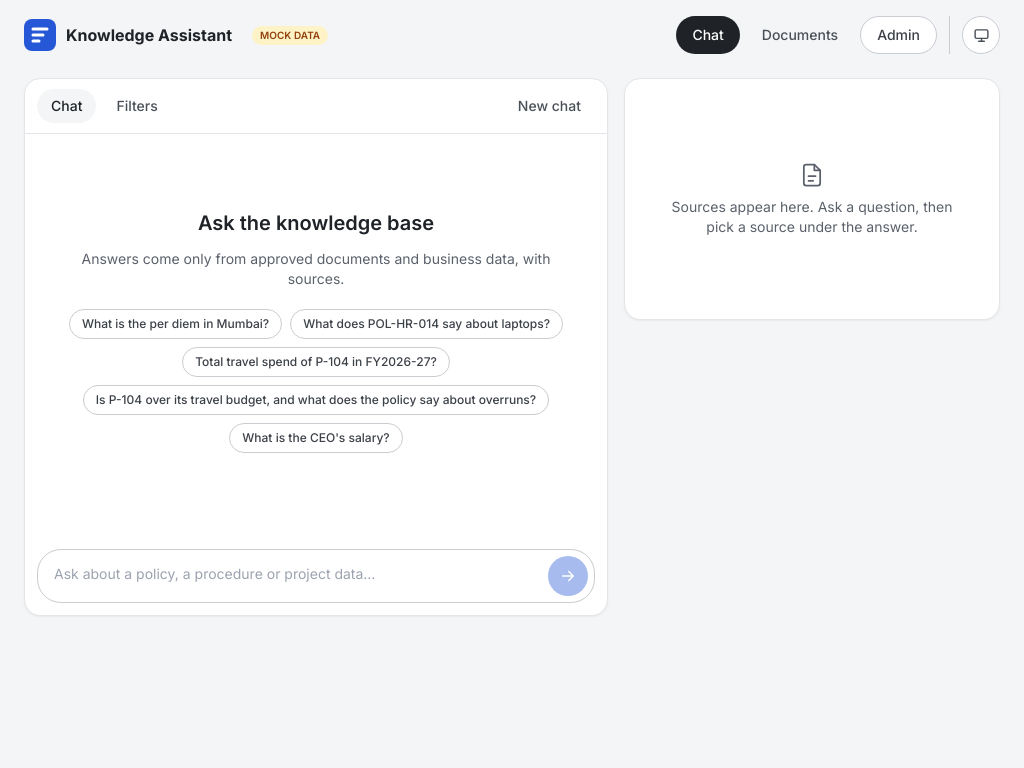
Scenario: chat end to end on mock data › asks without streaming and shows the source in the viewer
Click the tab "Filters".
click(137, 106)  # box [102,89,172,123]
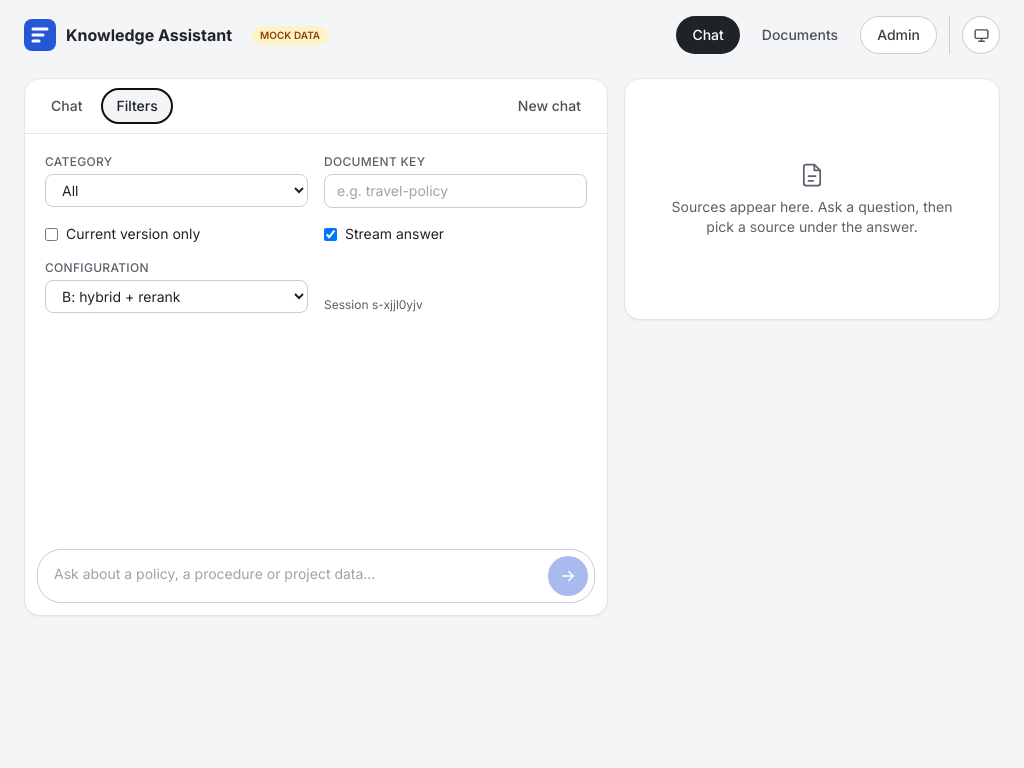
Click the checkbox labelled "Stream answer".
click(330, 234)  # box [324,228,337,240]
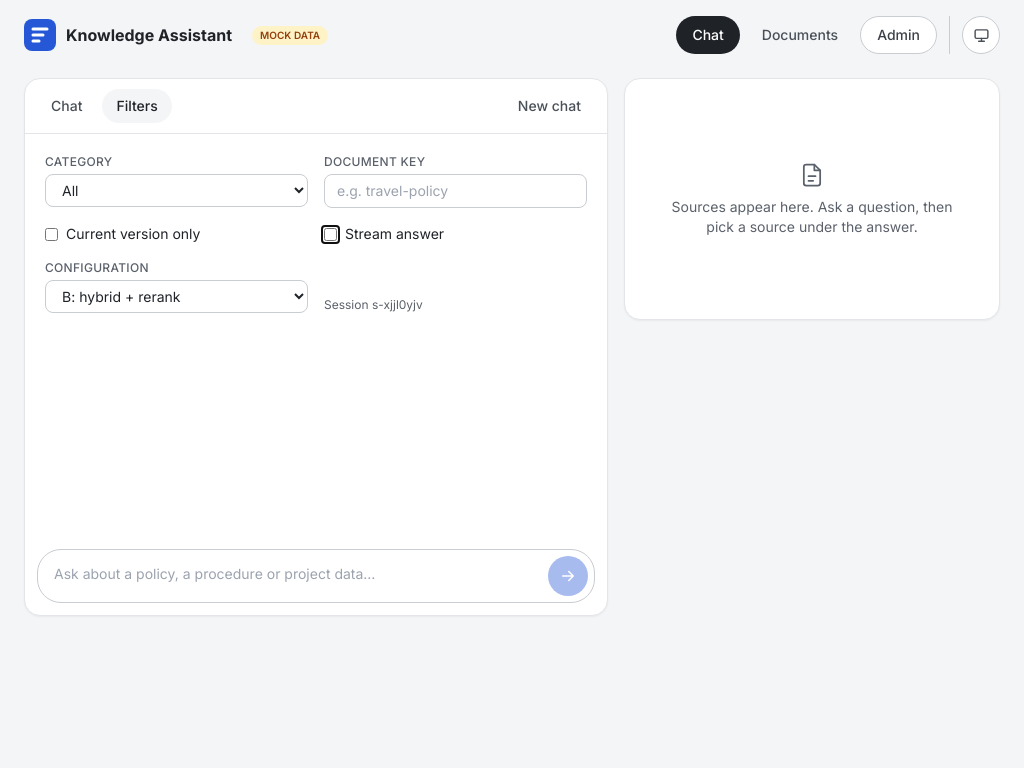
Type "What does POL-HR-014 say about laptops?" into the text box named "Question".
click(297, 576); type("What does POL-HR-014 say about laptops?")  # box [54,556,540,596]
Then press Enter
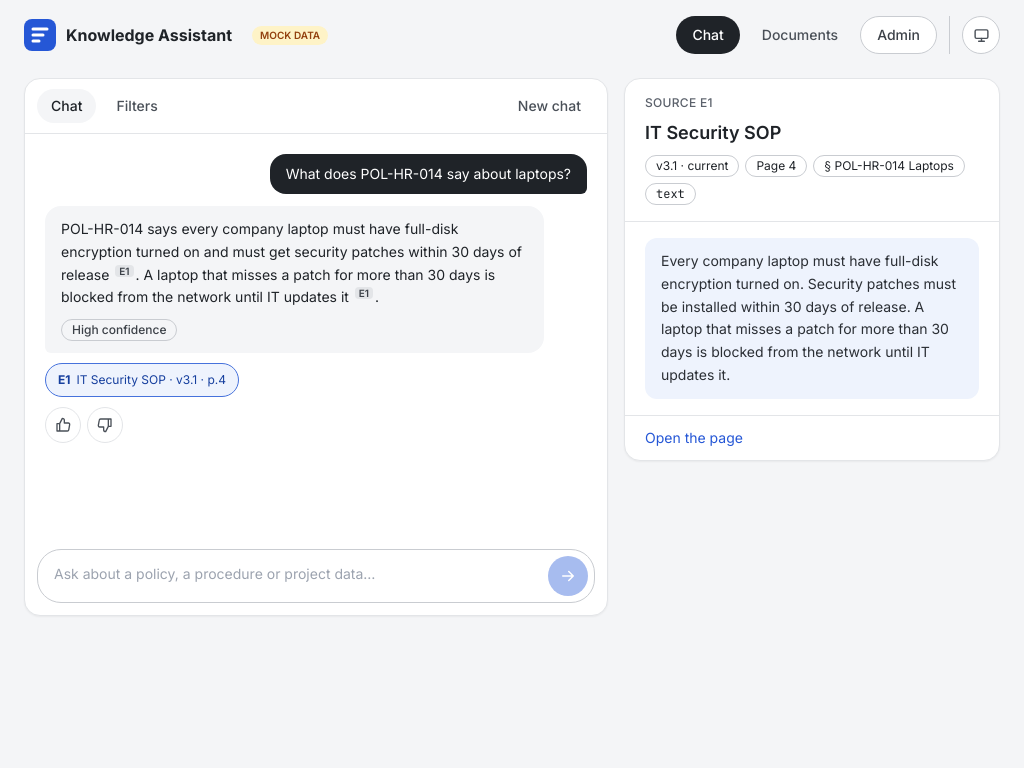
expect the text "High confidence" is shown: met, box [61,319,178,341]
expect the element named "Source viewer" shows "IT Security SOP": met, box [645,122,781,143]
expect the element named "Source viewer" shows "POL-HR-014 Laptops": met, box [834,158,954,173]
